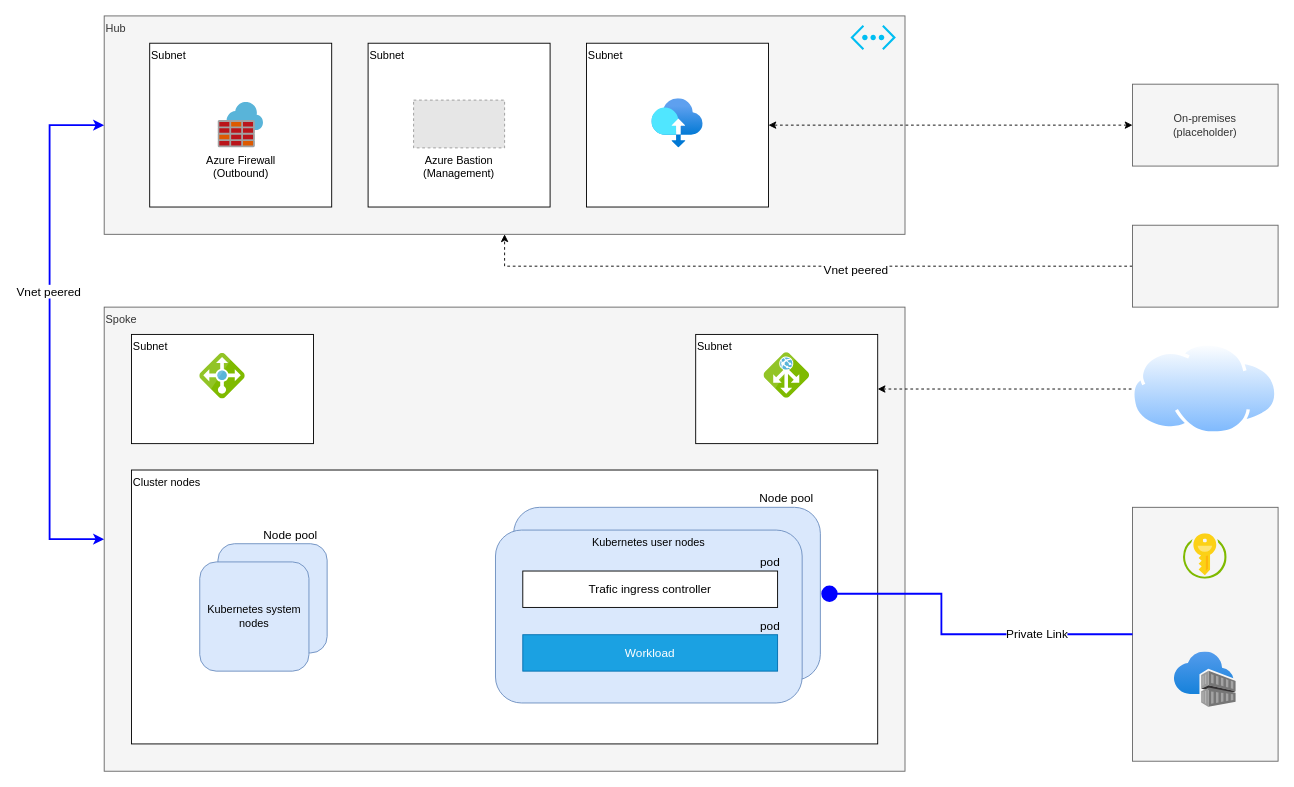
Some shapes in this 1294 by 787 pixel diagram are drawn without their labels. Grey dashed boxes stand in for pictures. Here are the shapes that lost their labels. From the top down, the centre of each, then its label:
At (677,122): "Gateway (to on-premises)".
At (1205,265): "Spoke (another business unit)".
At (222,375): "Internal Load Balancer (AKS-managed)".
At (786,375): "Azure Application Gateway WAF".
At (1204,388): "Public Internet".
At (1205,556): "Azure Key Vault".
At (1205,679): "Azure Container Registry".
